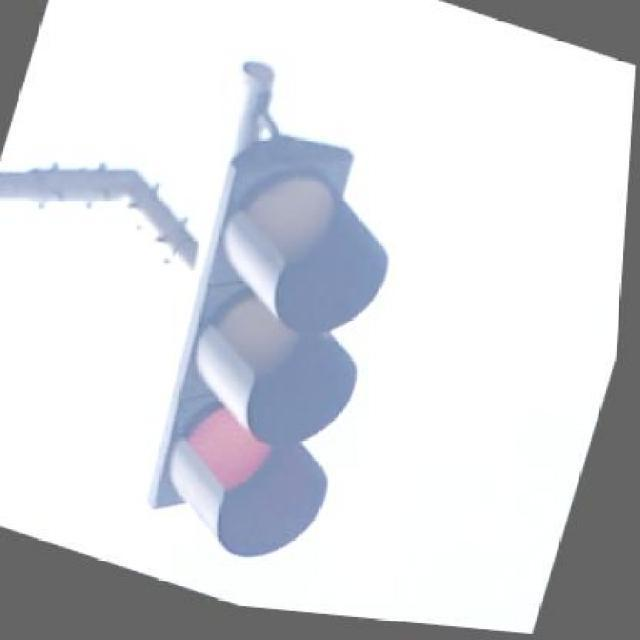red_light: (150, 61, 386, 554)
